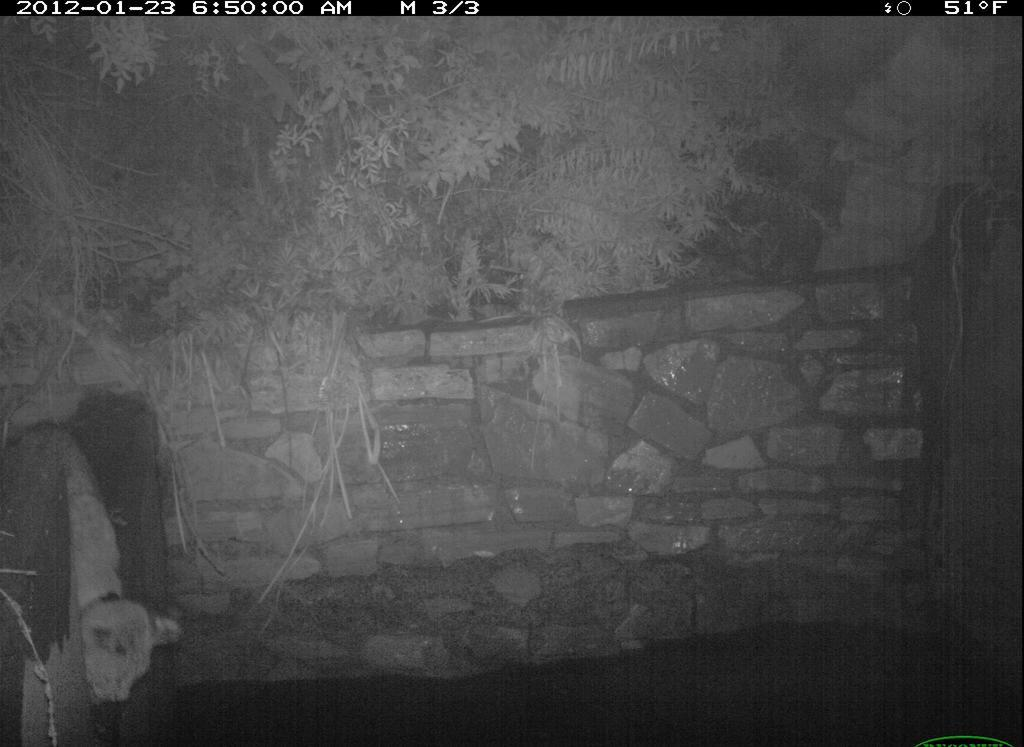bobcat: (17, 422, 189, 706)
